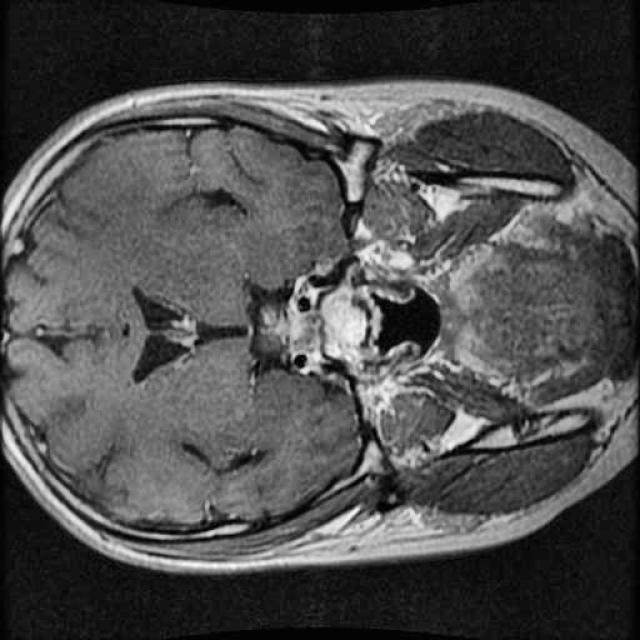Tumor: (231, 300, 309, 359)
